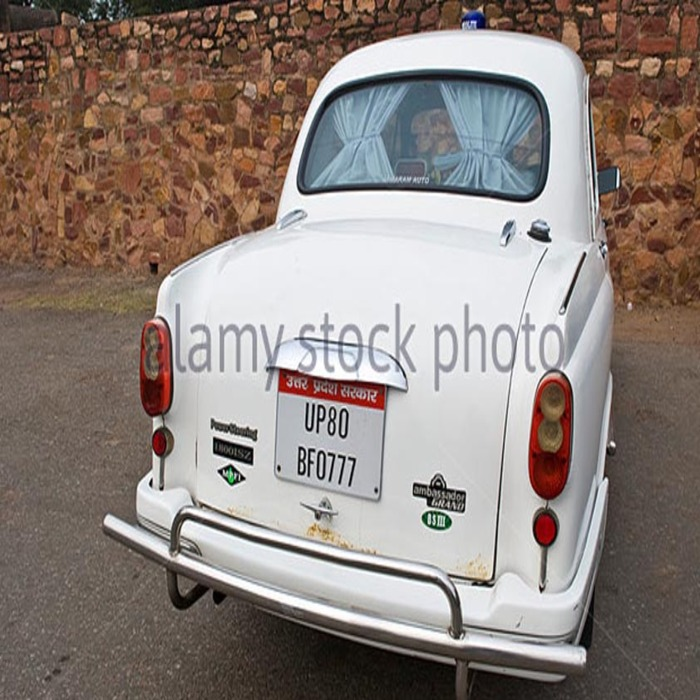n: (275, 369, 390, 499)
